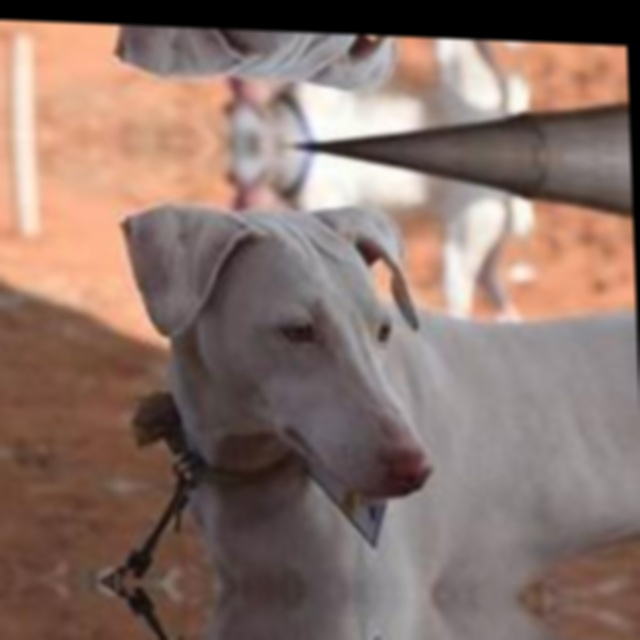dog: (108, 172, 555, 600), (102, 24, 537, 121), (122, 582, 558, 640)
